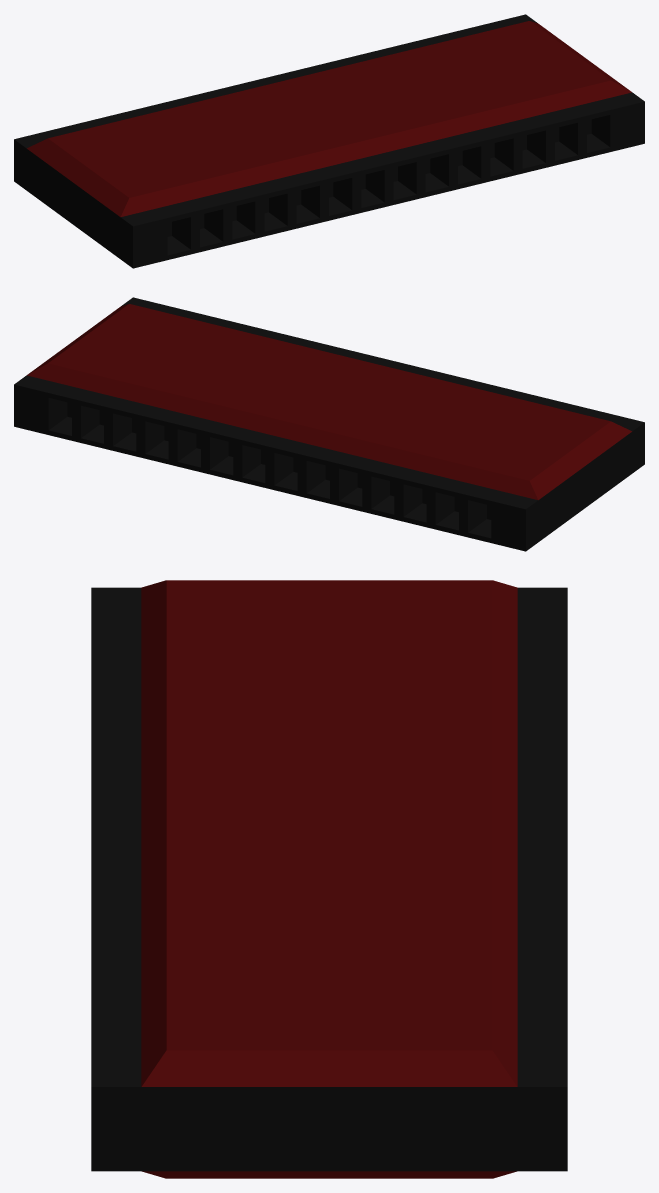
The model's file is mzka.fbx.
The picture shows the model from 3 angles, top to bottom: view 1: azimuth 30°, elevation 25°; view 2: azimuth 150°, elevation 25°; view 3: azimuth 270°, elevation 25°; orthographic projection. The views are drawn at different scales.
Visible parts, largest first — view 1: Box003; view 2: Box003; view 3: Box003.
Part boxes in pixels (left/top/right/bottom): Box003: left=14, top=14, right=644, bottom=268; Box003: left=14, top=297, right=644, bottom=551; Box003: left=91, top=580, right=567, bottom=1178.
Bounding box in the file's own units: 34 × 4.07 × 13.7.
